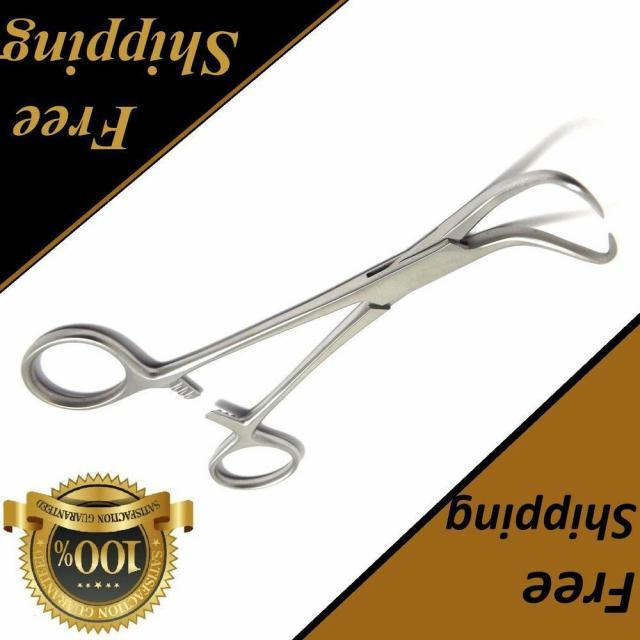Towel_clip: (19, 163, 624, 494)
